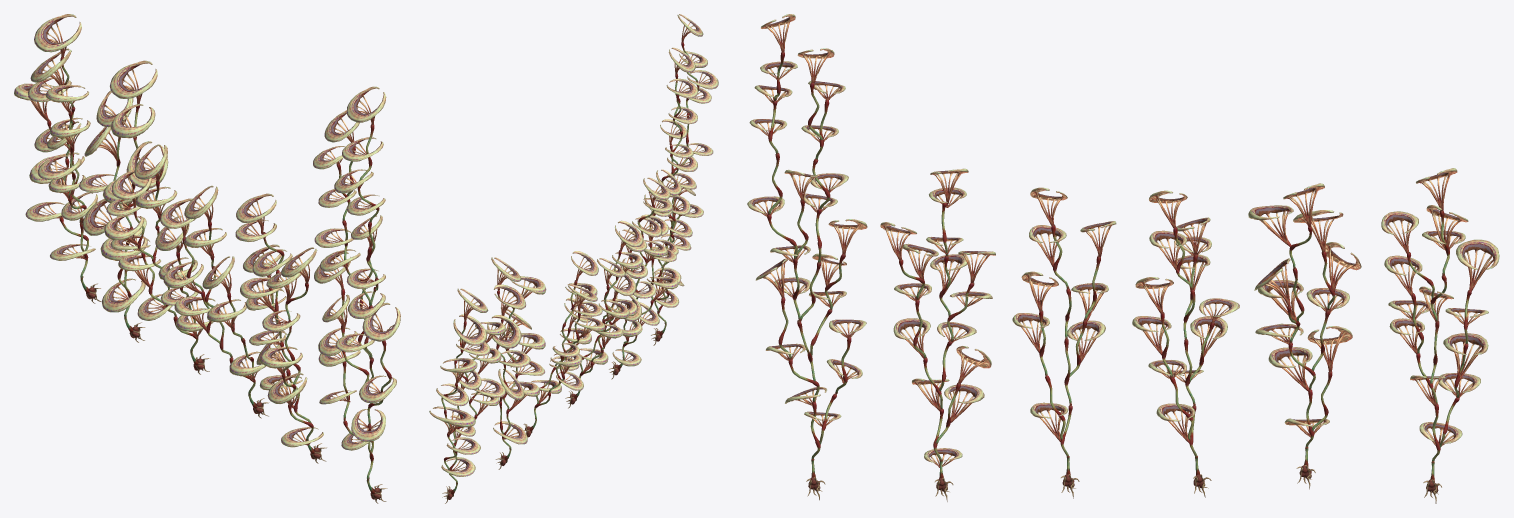
3 views of the same model, side by side, from view 1: azimuth 30°, elevation 25°; view 2: azimuth 150°, elevation 25°; view 3: azimuth 270°, elevation 25° (orthographic). The views are drawn at different scales.
Parts seen in each view (by area): view 1: twistybridges_cliffplant_tall_01_Combined_LOD0_Material.001_, twistybridges_cliffplant_medium_forward_03_Combined_LOD0_Mat, twistybridges_cliffplant_medium_01_Combined_LOD0_Material.00, twistybridges_cliffplant_medium_02_Combined_LOD0_Material.00, twistybridges_cliffplant_medium_forward_01_Combined_LOD0_Mat, twistybridges_cliffplant_medium_forward_02_Combined_LOD0_Mat; view 2: twistybridges_cliffplant_tall_01_Combined_LOD0_Material.001_, twistybridges_cliffplant_medium_01_Combined_LOD0_Material.00, twistybridges_cliffplant_medium_02_Combined_LOD0_Material.00, twistybridges_cliffplant_medium_forward_03_Combined_LOD0_Mat, twistybridges_cliffplant_medium_forward_01_Combined_LOD0_Mat, twistybridges_cliffplant_medium_forward_02_Combined_LOD0_Mat; view 3: twistybridges_cliffplant_tall_01_Combined_LOD0_Material.001_, twistybridges_cliffplant_medium_01_Combined_LOD0_Material.00, twistybridges_cliffplant_medium_forward_03_Combined_LOD0_Mat, twistybridges_cliffplant_medium_02_Combined_LOD0_Material.00, twistybridges_cliffplant_medium_forward_01_Combined_LOD0_Mat, twistybridges_cliffplant_medium_forward_02_Combined_LOD0_Mat.
Boxes of the visible parts, x1,y1,x2,y2 form: twistybridges_cliffplant_tall_01_Combined_LOD0_Material.001_: (313,86,400,503); twistybridges_cliffplant_medium_forward_03_Combined_LOD0_Mat: (235,193,326,463); twistybridges_cliffplant_medium_01_Combined_LOD0_Material.00: (14,14,101,303); twistybridges_cliffplant_medium_02_Combined_LOD0_Material.00: (79,60,168,342); twistybridges_cliffplant_medium_forward_01_Combined_LOD0_Mat: (104,144,213,374); twistybridges_cliffplant_medium_forward_02_Combined_LOD0_Mat: (160,185,269,418); twistybridges_cliffplant_tall_01_Combined_LOD0_Material.001_: (647,14,718,345); twistybridges_cliffplant_medium_01_Combined_LOD0_Material.00: (429,288,506,503); twistybridges_cliffplant_medium_02_Combined_LOD0_Material.00: (487,257,546,469); twistybridges_cliffplant_medium_forward_03_Combined_LOD0_Mat: (609,177,678,379); twistybridges_cliffplant_medium_forward_01_Combined_LOD0_Mat: (523,251,605,437); twistybridges_cliffplant_medium_forward_02_Combined_LOD0_Mat: (565,220,643,408); twistybridges_cliffplant_tall_01_Combined_LOD0_Material.001_: (747,14,867,500); twistybridges_cliffplant_medium_01_Combined_LOD0_Material.00: (1381,168,1499,503); twistybridges_cliffplant_medium_forward_03_Combined_LOD0_Mat: (880,168,995,501); twistybridges_cliffplant_medium_02_Combined_LOD0_Material.00: (1248,183,1361,489); twistybridges_cliffplant_medium_forward_01_Combined_LOD0_Mat: (1132,190,1239,497); twistybridges_cliffplant_medium_forward_02_Combined_LOD0_Mat: (1012,187,1116,498).
Size of the model in its own units: 0.1075 by 0.422 by 0.5987.
Materials: 1 (1 with a texture image).
